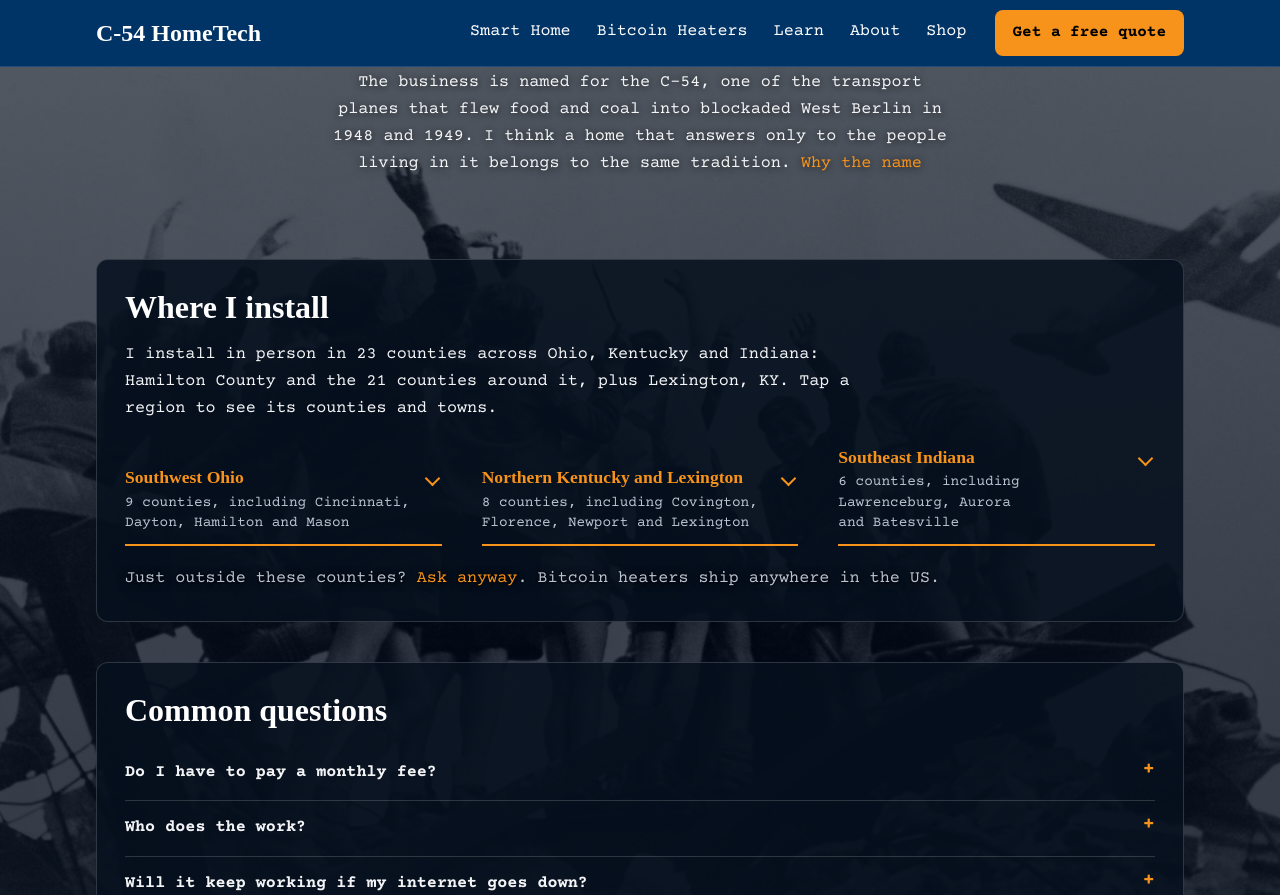
on a phone, a service area region opens when tapped
(page scrolled)
Expected: the text "Dearborn County" is not shown
Click the button "Southeast Indiana": click(997, 490) [838, 447, 1155, 534]
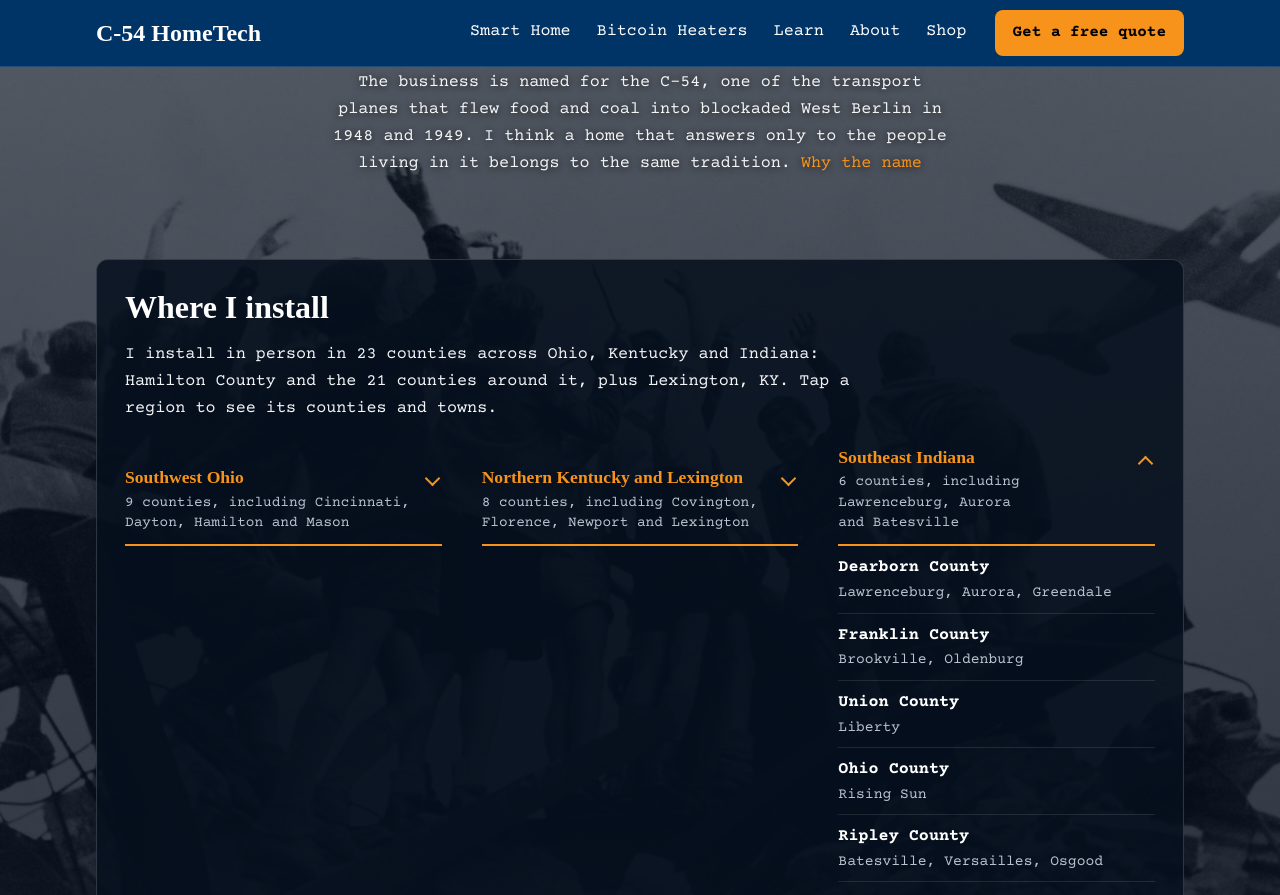
Now the button "Southeast Indiana" is expanded, box [838, 447, 1155, 534]
Now the text "Dearborn County" is shown, box [838, 558, 989, 577]
